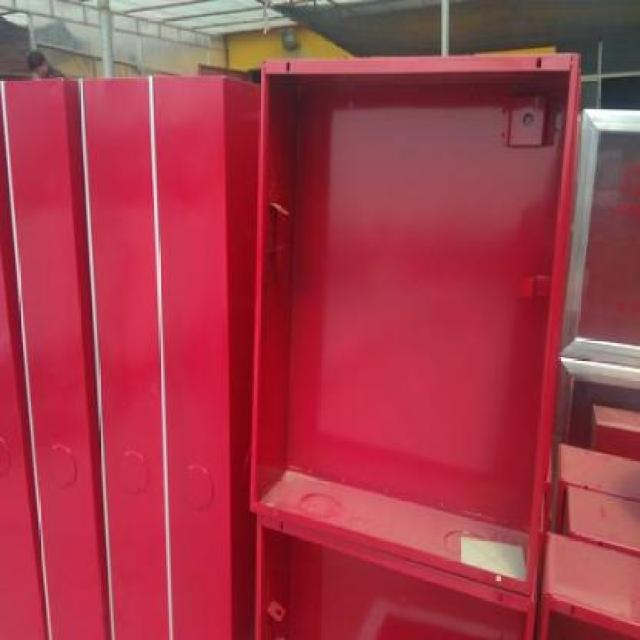firehydrant: (248, 49, 582, 639), (551, 103, 639, 485)
